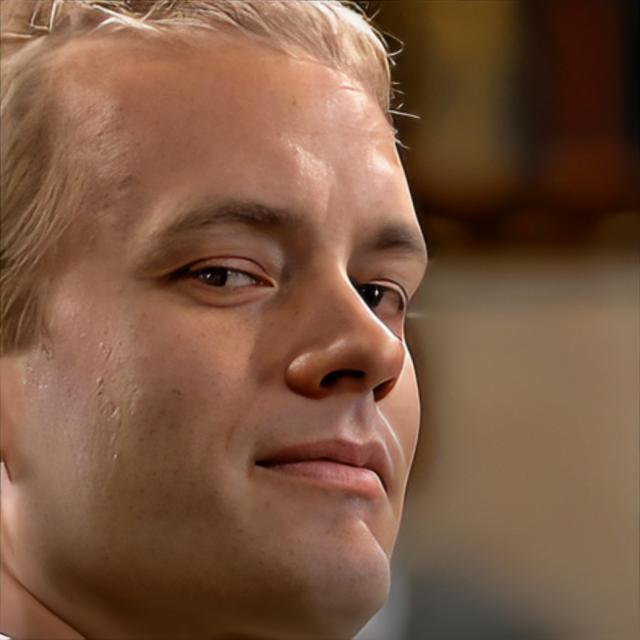content: (9, 10, 428, 640)
